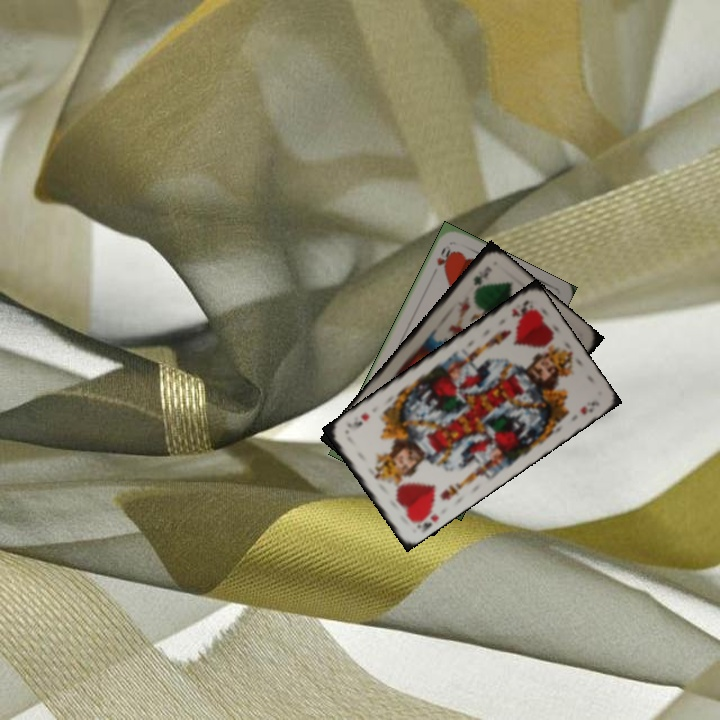GK: (469, 268, 492, 288)
HK: (408, 502, 442, 534), (508, 296, 534, 320)
HO: (433, 244, 455, 270)
